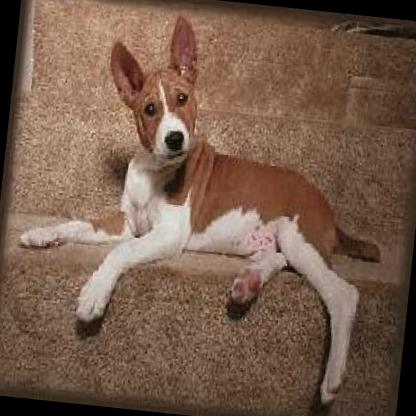basenji: (6, 1, 406, 410)
